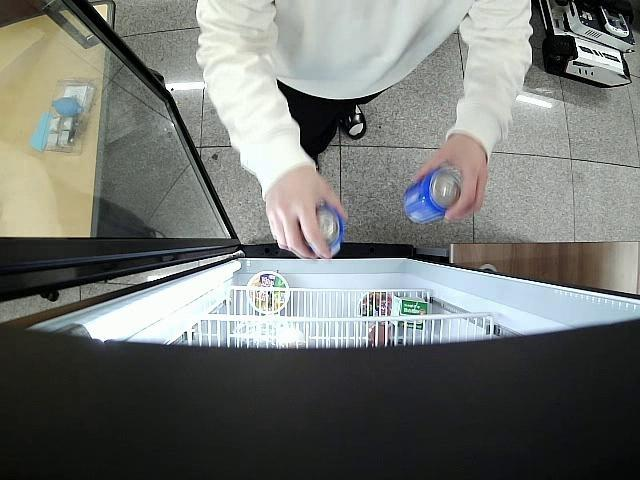13_pocariSweat: (401, 166, 462, 224), (300, 205, 343, 259)
